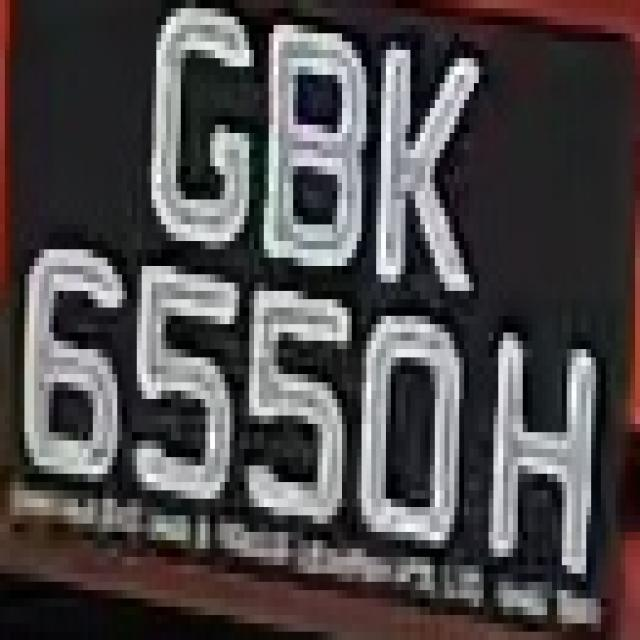0: (347, 299, 474, 565)
5: (117, 233, 235, 532), (239, 258, 347, 557)
6: (15, 224, 122, 507)
B: (253, 0, 371, 274)
G: (117, 0, 259, 258)
H: (479, 324, 606, 599)
K: (371, 33, 484, 299)
